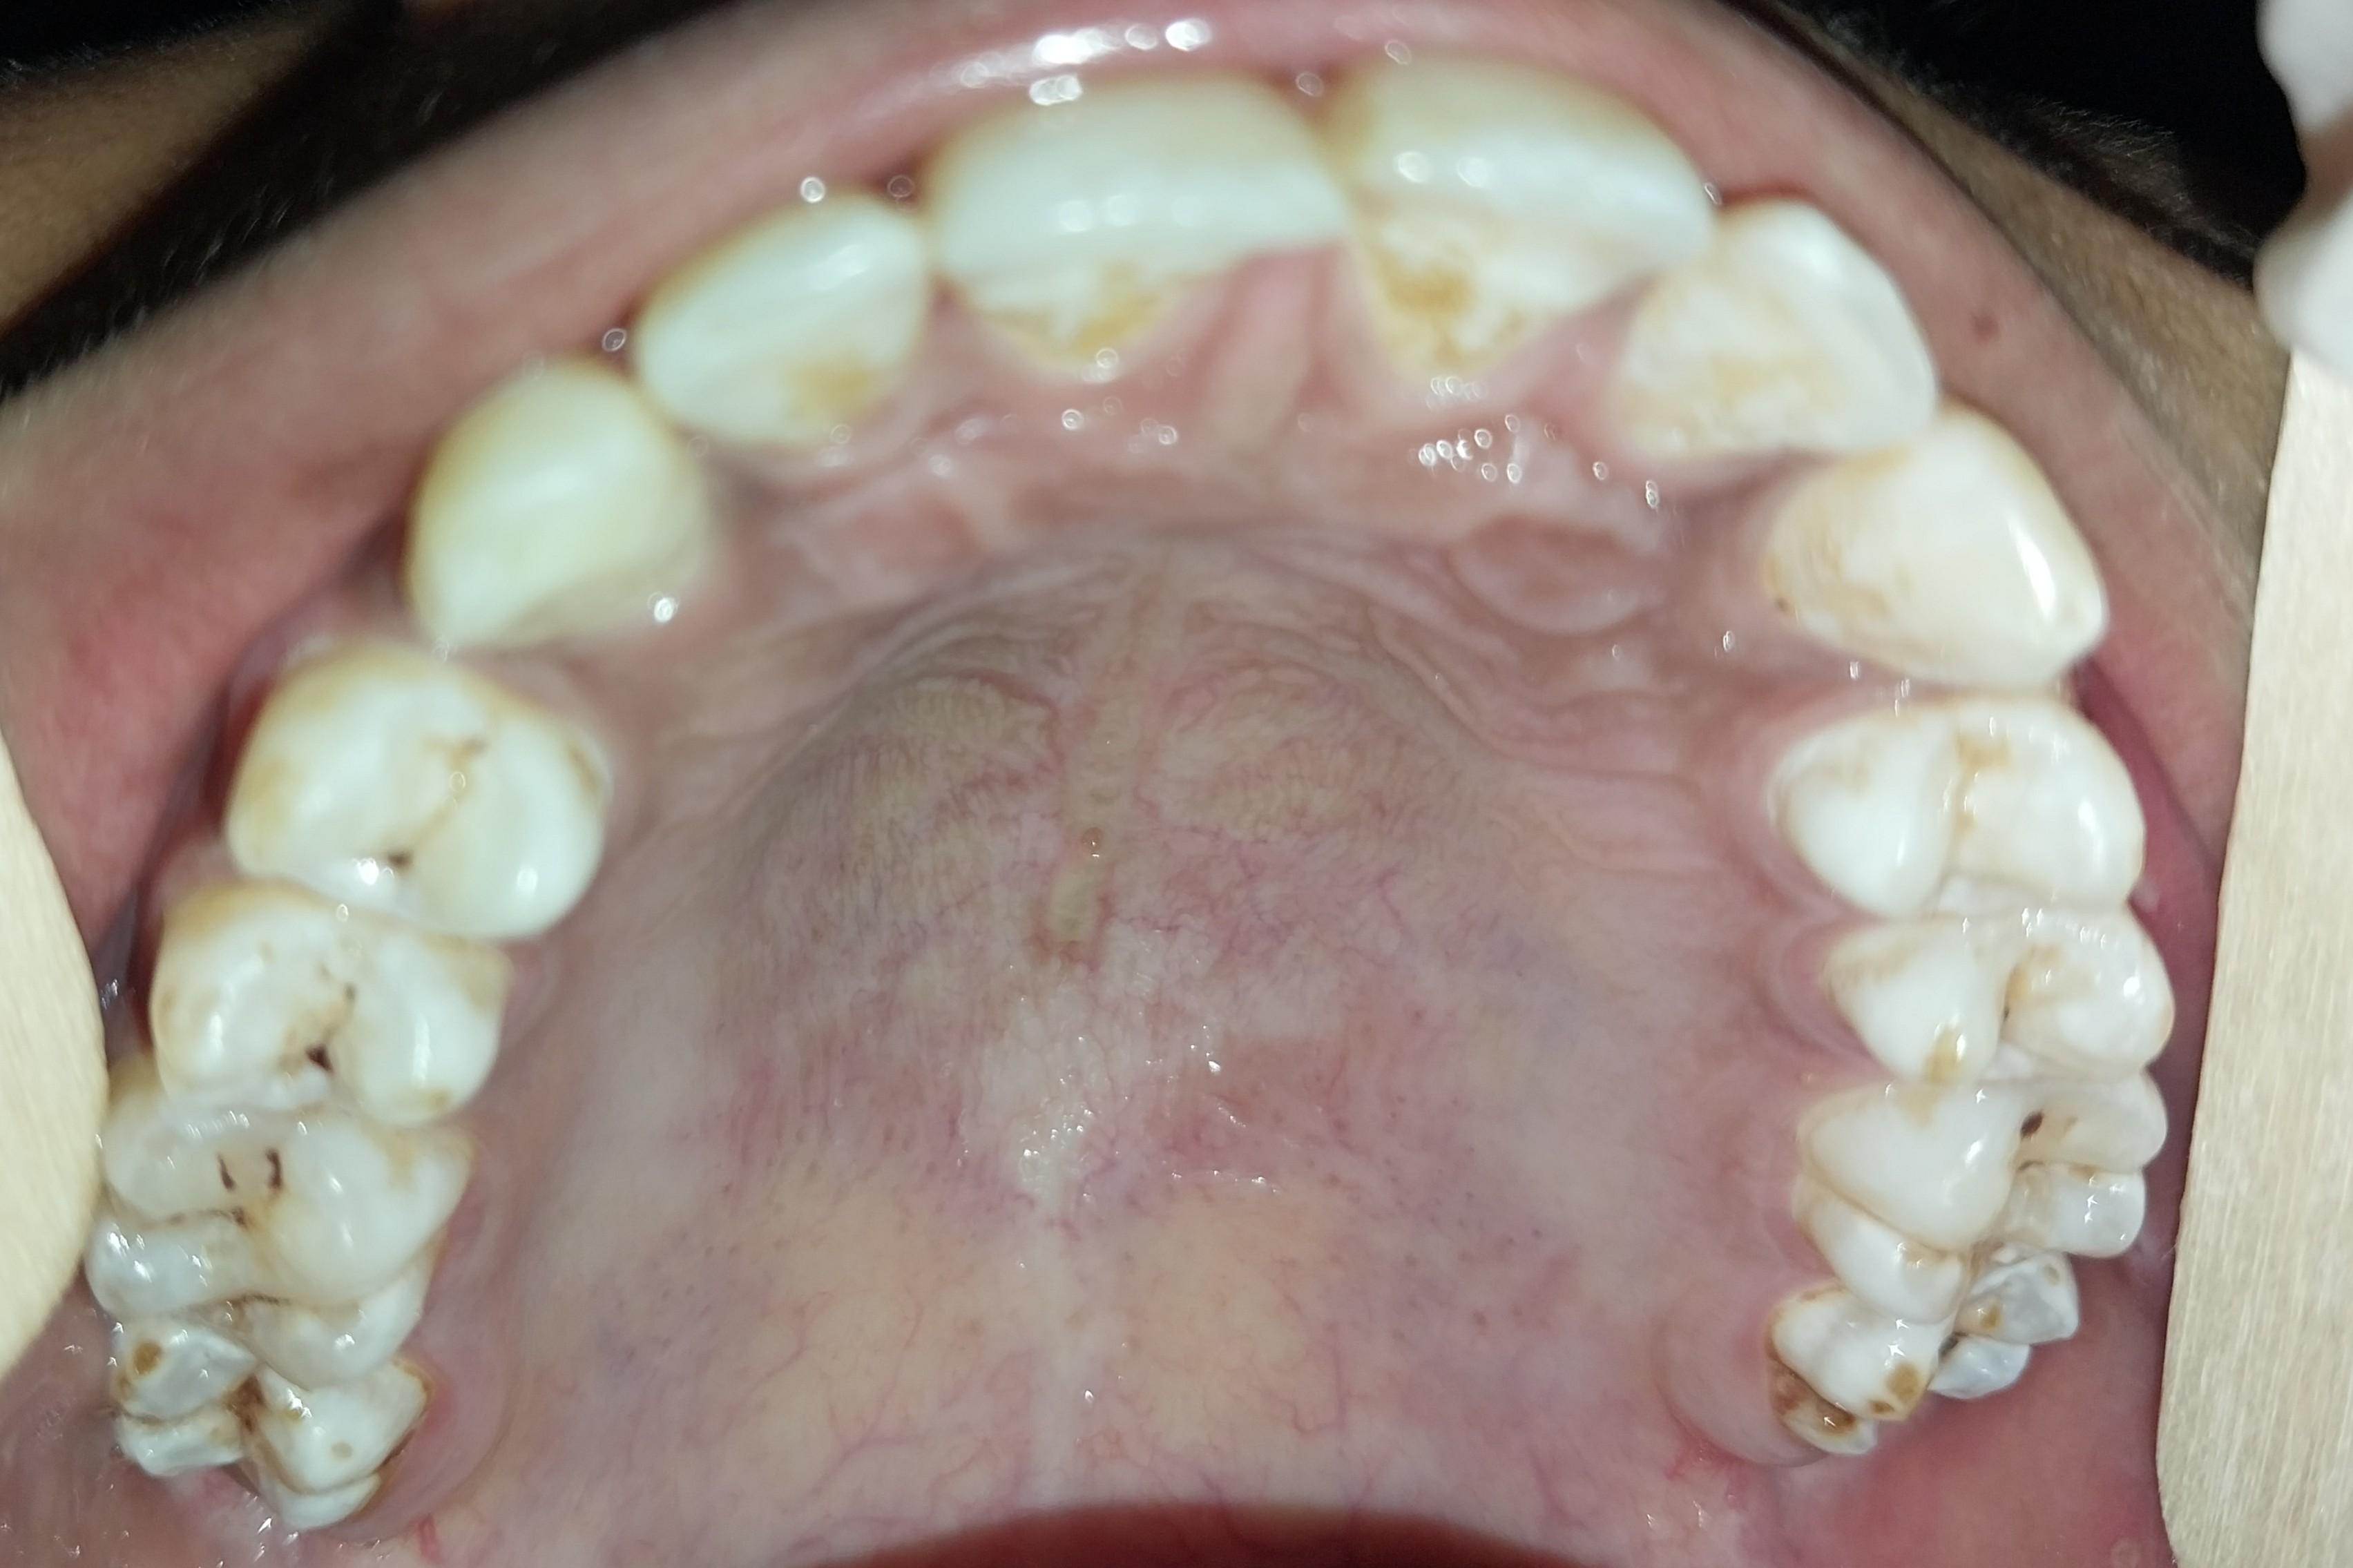D: (81, 1073, 464, 1376), (220, 646, 597, 932), (1822, 1054, 2156, 1342), (140, 893, 510, 1126), (81, 1317, 422, 1538), (1816, 916, 2183, 1092), (1795, 1254, 2087, 1458)
